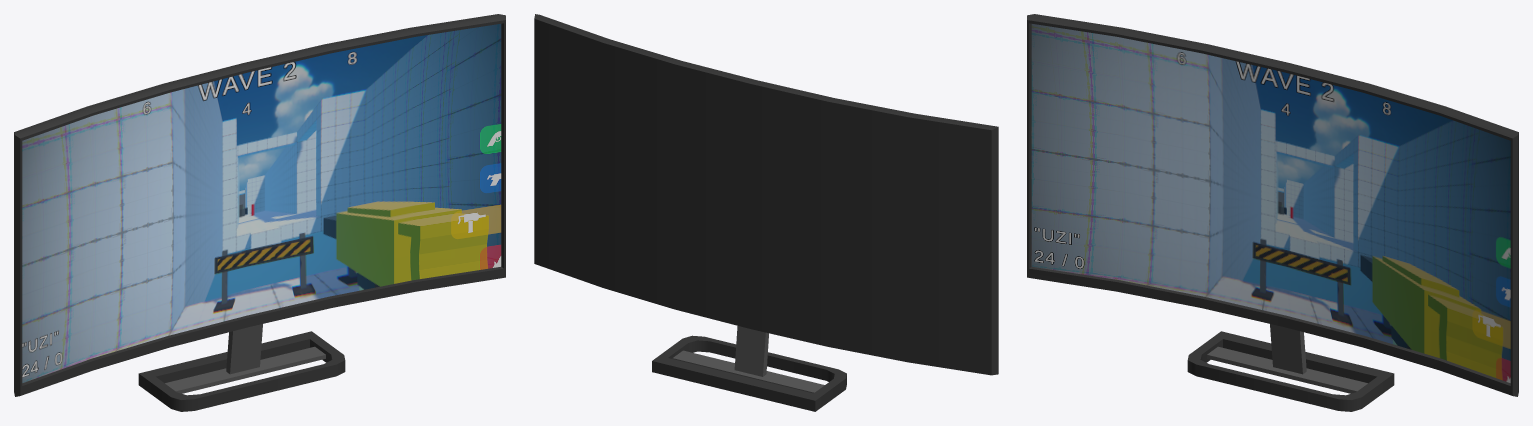
Rendered from Monitor_4_Curved.obj.
3 renders of one model, left to right at view 1: azimuth 30°, elevation 25°; view 2: azimuth 150°, elevation 25°; view 3: azimuth 330°, elevation 25°, orthographic. The views are drawn at different scales.
Visible parts, largest first — view 1: Monitor_4_Curved; view 2: Monitor_4_Curved; view 3: Monitor_4_Curved.
Part boxes in pixels (left/top/right/bottom): Monitor_4_Curved: left=14, top=14, right=505, bottom=411; Monitor_4_Curved: left=534, top=14, right=998, bottom=411; Monitor_4_Curved: left=1027, top=14, right=1518, bottom=411.
Size of the model in its own units: 0.9797 by 0.6002 by 0.1393.
